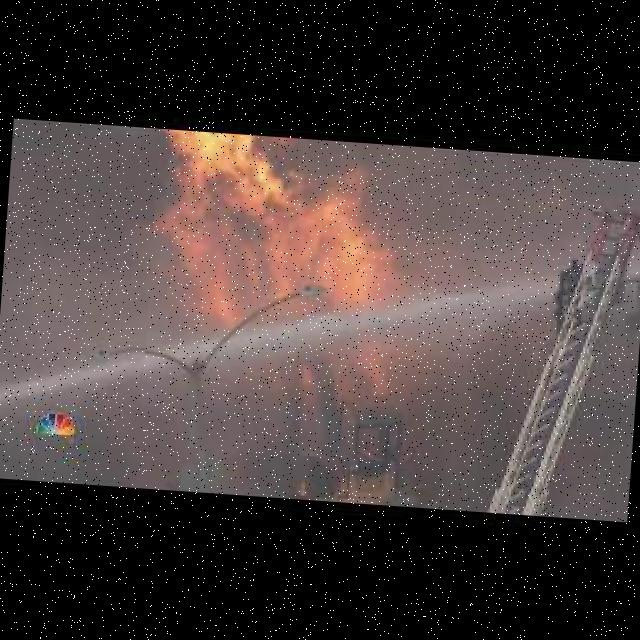fire: (138, 128, 432, 462)
